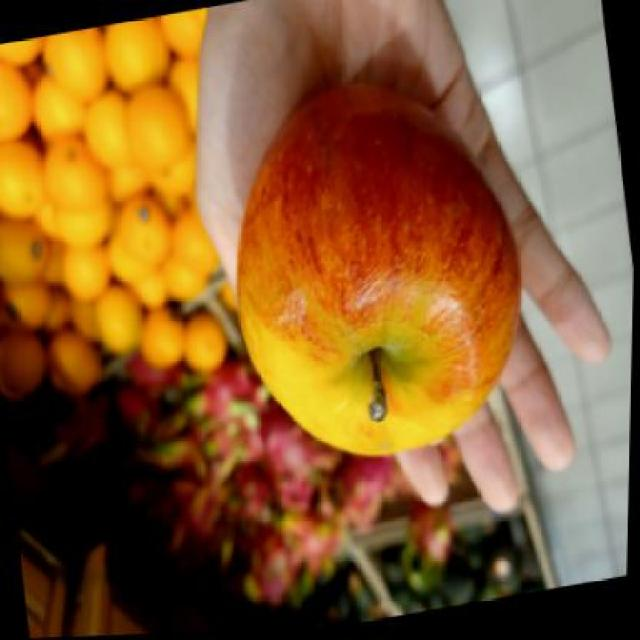Fresh Apple: (224, 90, 533, 462)
